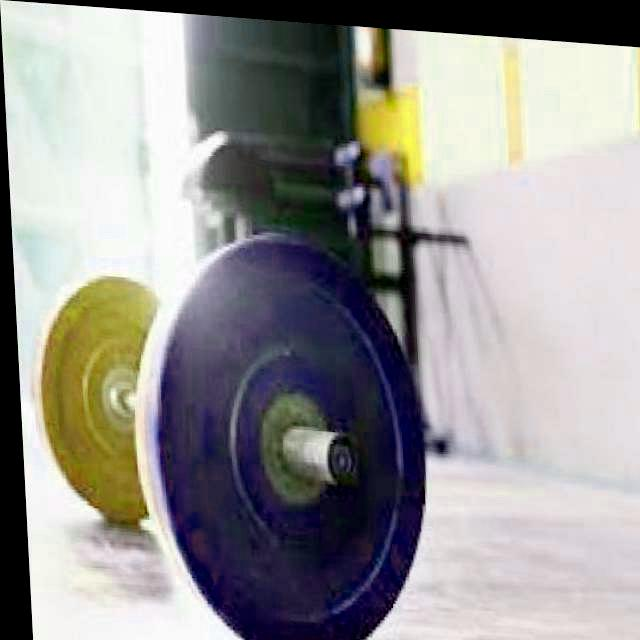barbell: (123, 213, 439, 640)
